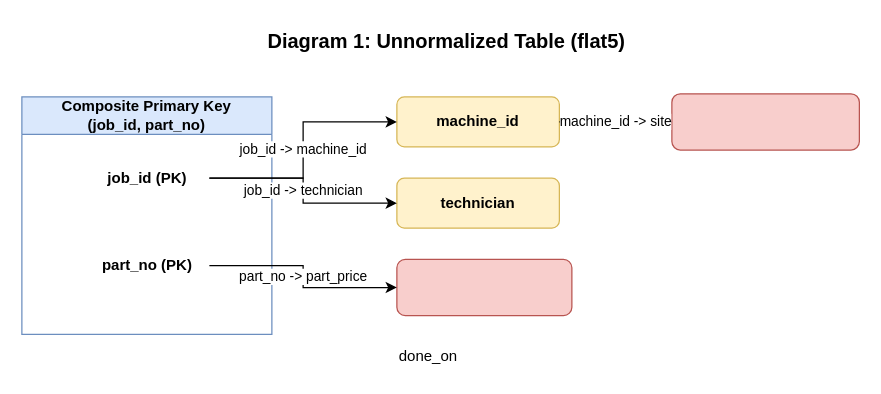
Image size: 881x394. Some labels were removed from this diagram. The shapes that lost their labels are listed below. From the top down, each one's centre as x and y in pixels, then its label:
At [765,121]: "site (Transitive Dependency)".
At [484,287]: "part_price (Partial Dependency)".
